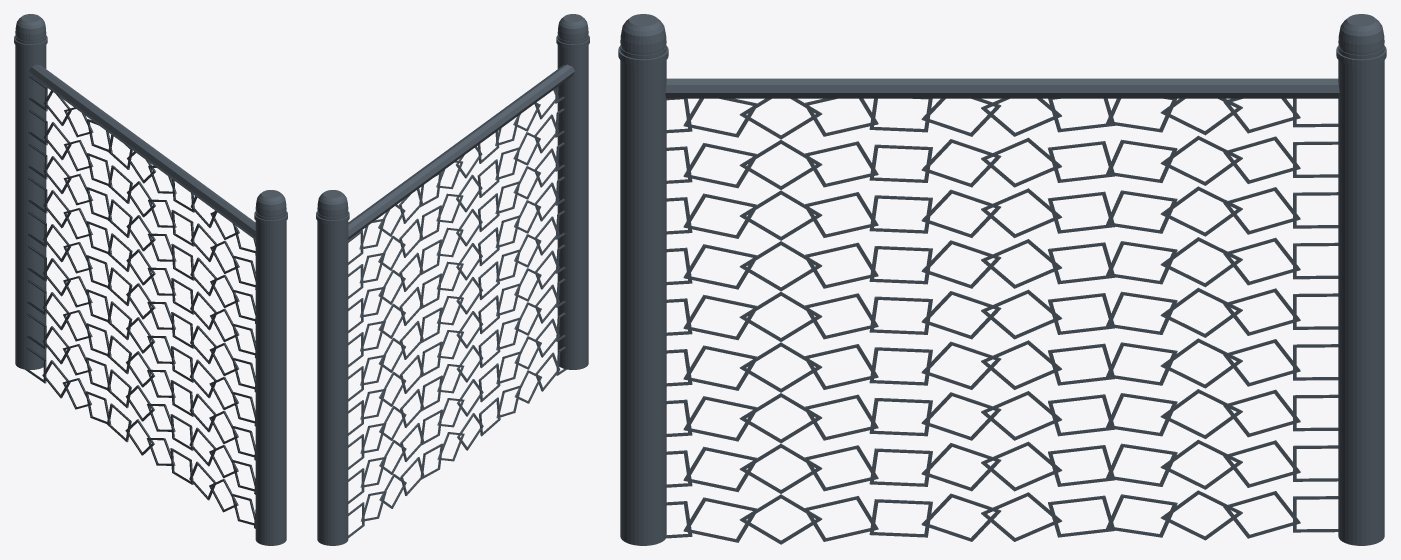
Rendered from ChainLinkFence.fbx.
The picture shows the model from 3 angles, left to right: view 1: azimuth 30°, elevation 25°; view 2: azimuth 150°, elevation 25°; view 3: azimuth 270°, elevation 25°; orthographic projection. The views are drawn at different scales.
Visible parts, largest first — view 1: ChainFence; view 2: ChainFence; view 3: ChainFence.
Part boxes in pixels (bbox=[...]): ChainFence: bbox=[14, 14, 287, 545]; ChainFence: bbox=[316, 14, 589, 545]; ChainFence: bbox=[618, 14, 1386, 545].
Size of the model in its own units: 13.78 by 159 by 211.
